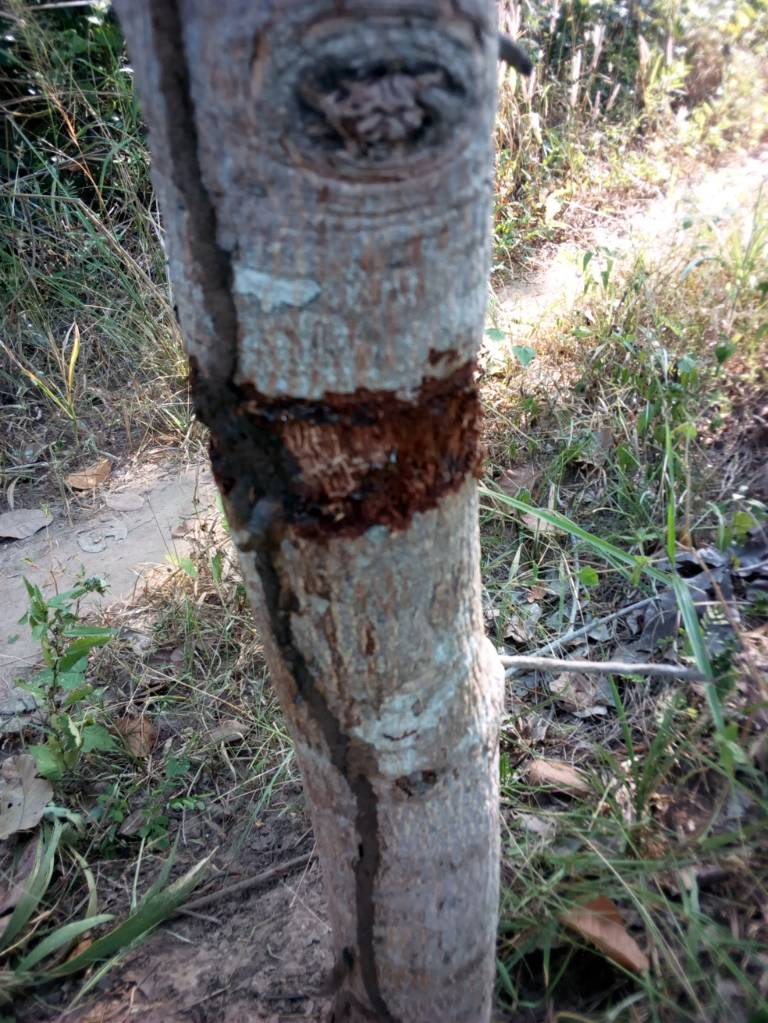Analepse trifasciata: (154, 352, 525, 549)
